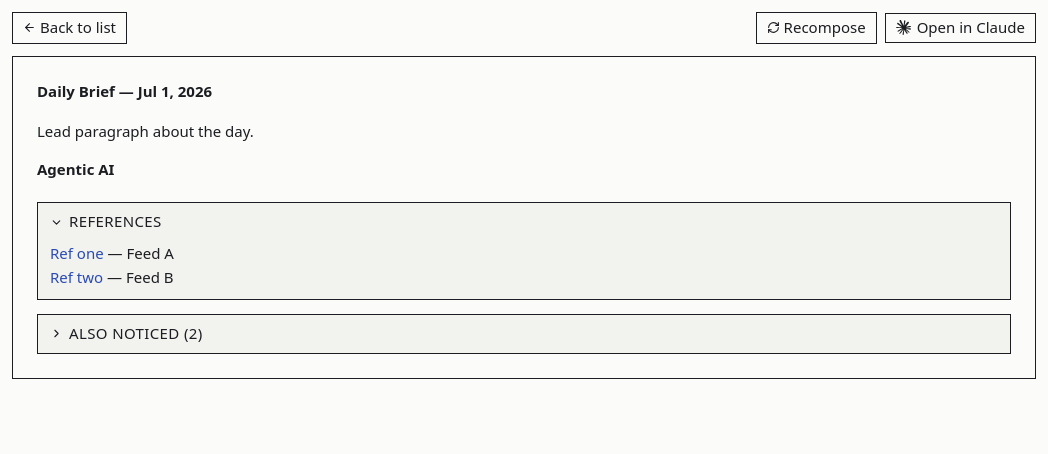
BriefReader sections › toggles the Also noticed panel open and closed
The width and height of the screenshot is (1048, 454).
Click the button with aria-label "expand also noticed". click: (136, 333)
box: [38,315,1010,353]
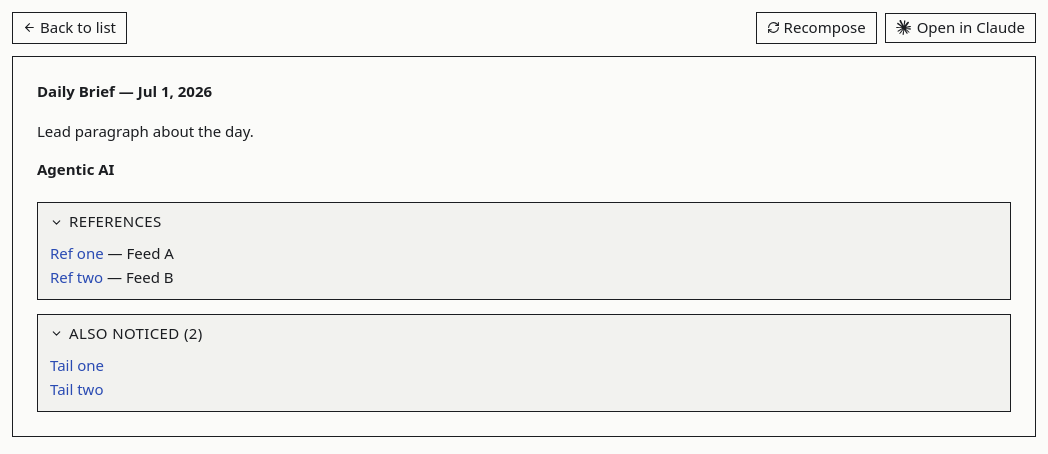
Check: the link "Tail one" is shown, box [50,355,104,375]
Click the button with aria-label "collapse also noticed". click: (136, 333)
box: [38,315,1010,353]
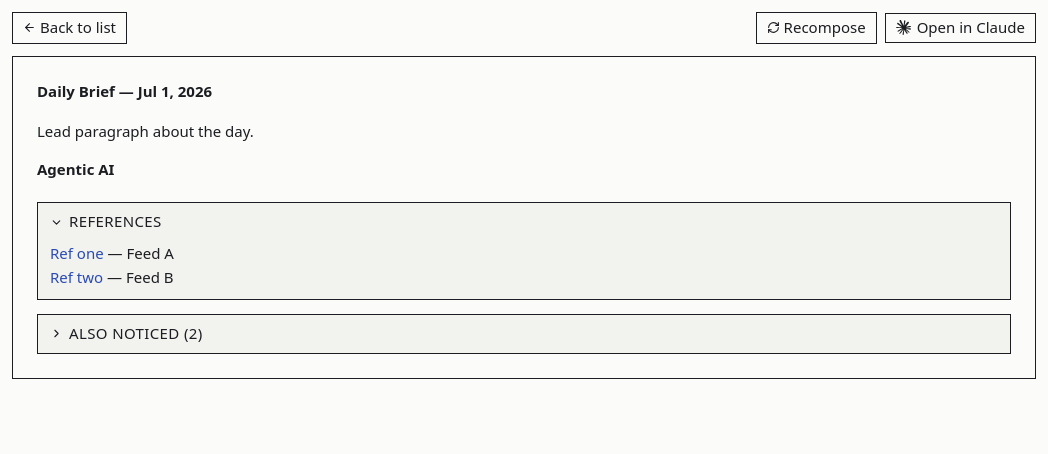
Check: the link "Tail one" is gone
